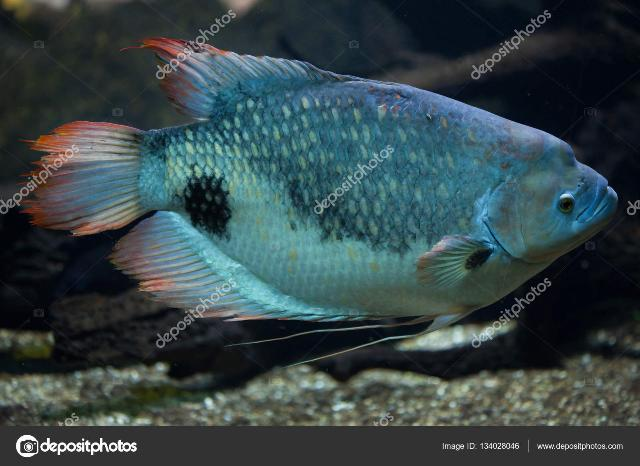Mulut: (540, 161, 632, 265)
Sirip Anal: (96, 202, 372, 346)
Sirip Dada: (400, 215, 504, 315)
Sirip Ekor: (7, 86, 171, 252)
Sirip Punggung: (112, 27, 364, 128)
